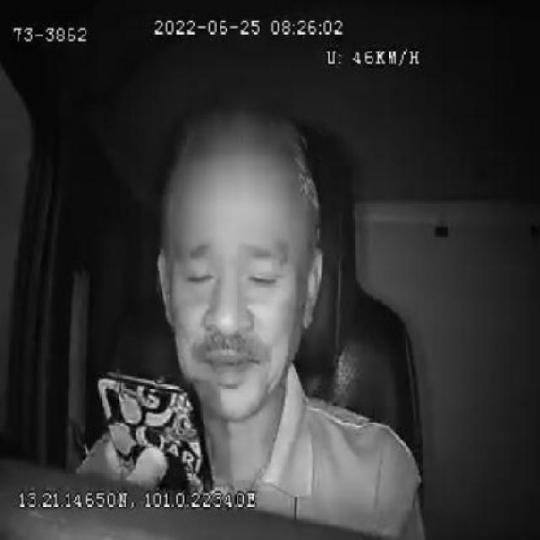phone: (89, 371, 222, 494)
